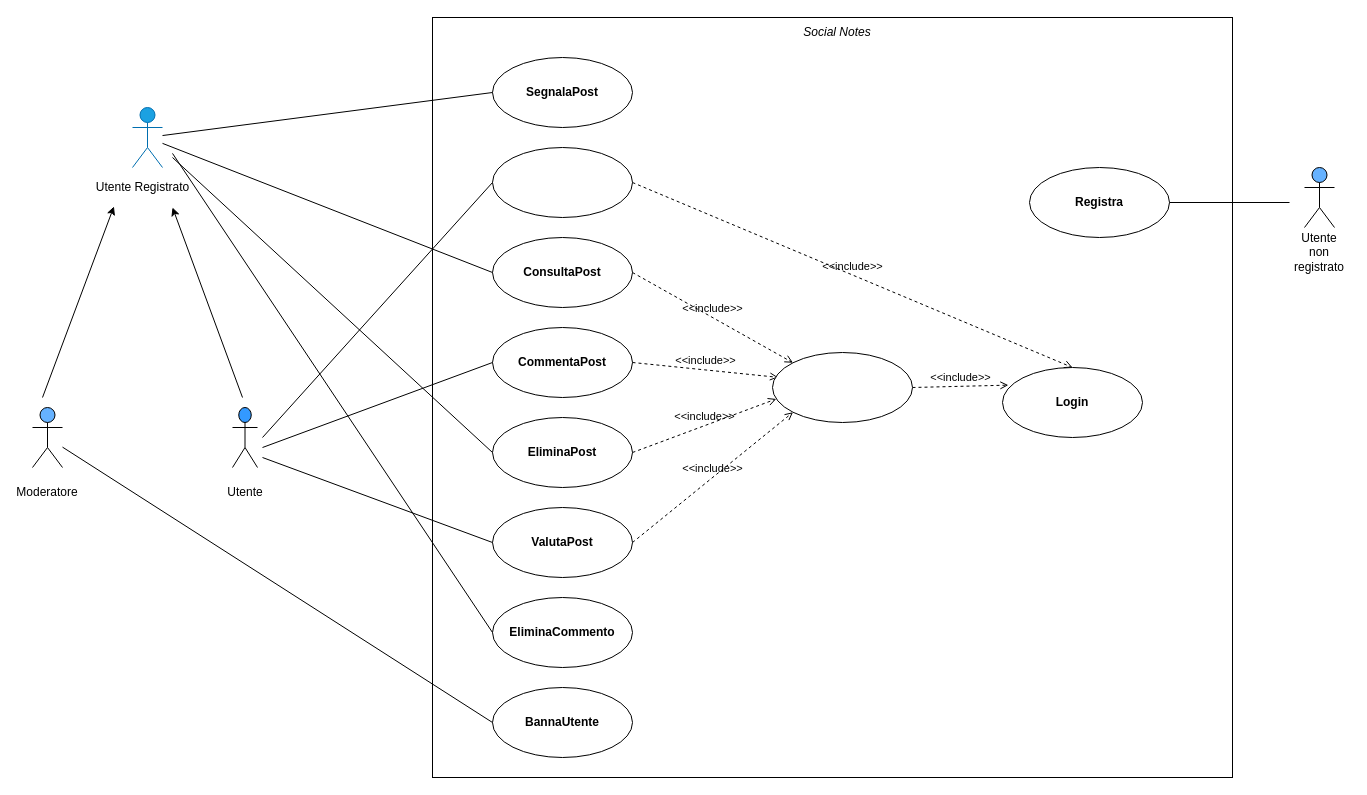
The diagram is 1367 pixels wide and 795 high, and some of its shapes have lost their labels. The shapes that lost their labels are listed below. From the top down, each one's box as (x1, y1, x2, y2) in pixels, then its label:
(492, 146, 632, 218): PubblicaPost
(772, 352, 912, 422): RicercaPost
